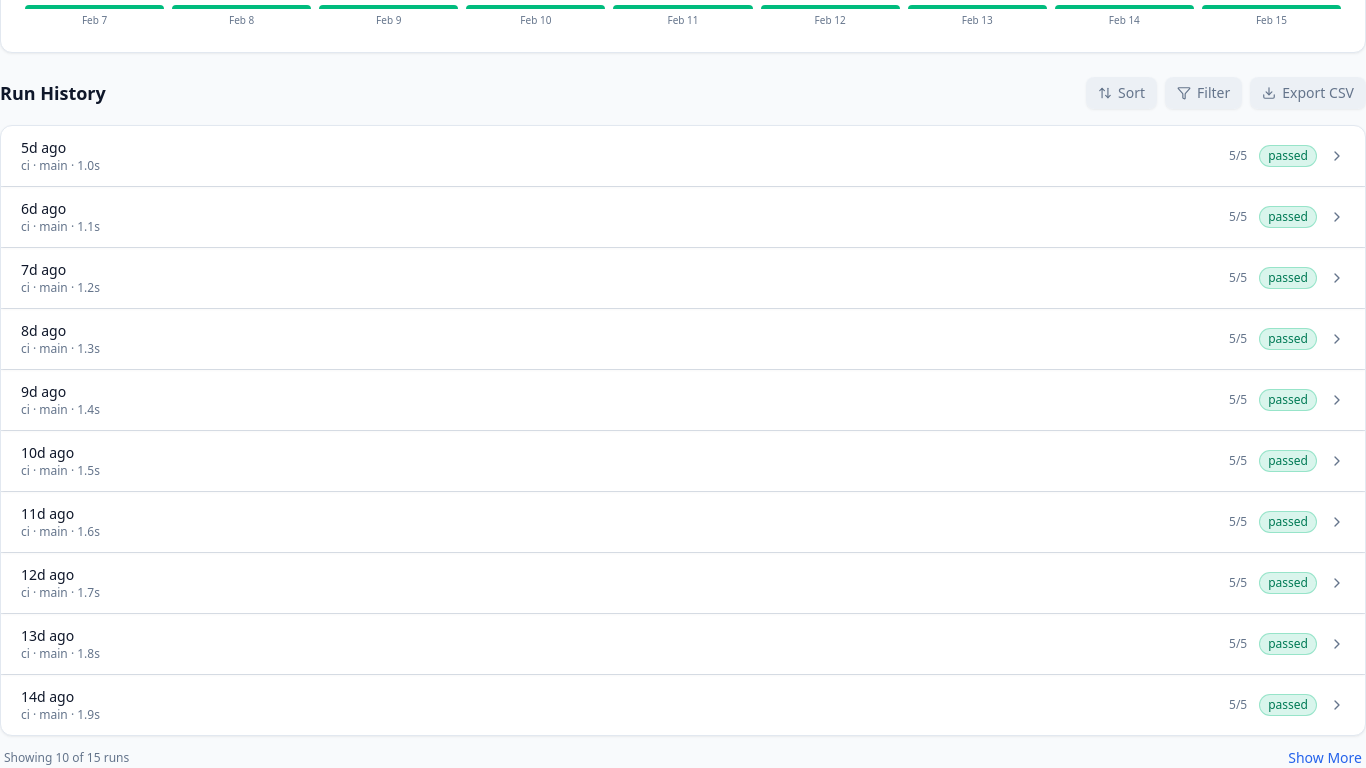
Test: ProjectClient › loads more runs when Show More is clicked
This screenshot has width=1366, height=768.
(page scrolled)
Expected: the text "Showing 10 of 15 runs" is shown, [4, 750, 129, 766]
# Click Show More
Click the button "Show More". click: (1325, 758)
box: [1288, 748, 1362, 767]
(page scrolled)
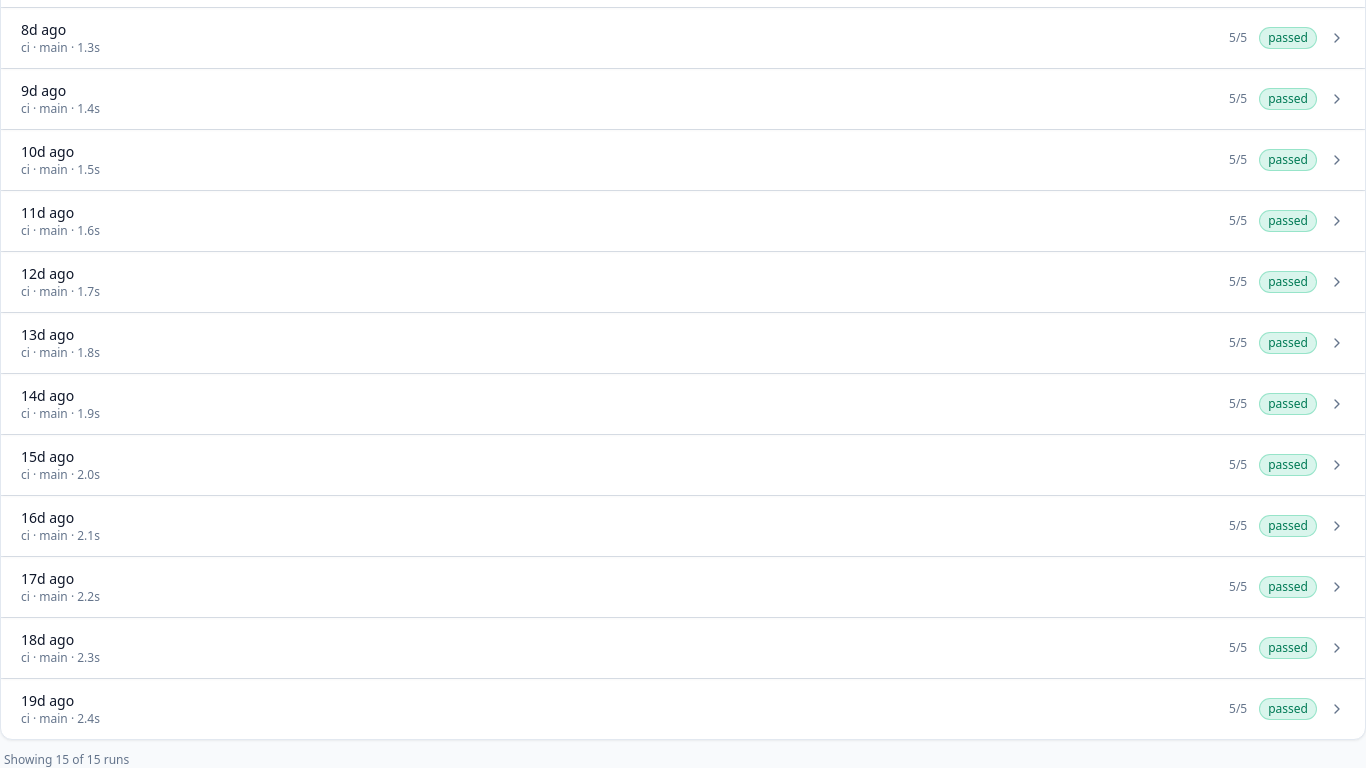
Expected: the text "Showing 15 of 15 runs" is shown, [4, 752, 129, 767]
Expected: the button "Show More" is gone
